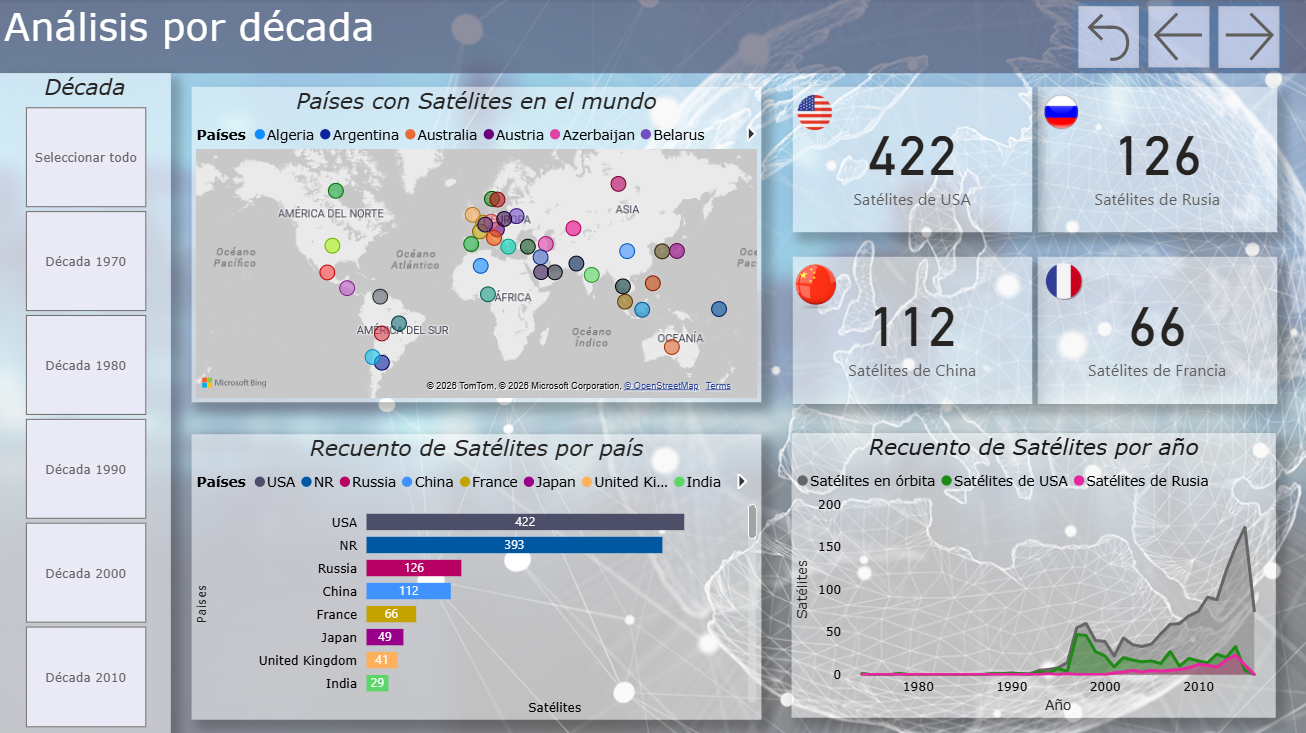

What the dashboard file says about the page in this screenshot:
{"tool":"powerbi","page":{"name":"Décadas","canvas":[1280,720],"ordinal":2},"visuals":[{"type":"textbox","box":[0,0,1280,73.9],"z":0},{"type":"actionButton","box":[1115.9,0,95.6,75.8],"z":1000},{"type":"actionButton","box":[1184.6,0,95.6,76.4],"z":2000},{"type":"slicer","title":"Década","fields":{"Values":["Calendario.Décadas"]},"box":[0,73.9,168,646.7],"z":3000},{"type":"barChart","title":"Recuento de Satélites por país ","fields":{"Category":["Países.Nombre"],"Y":["CountNonNull(Satélites.PaísID)"],"Series":["Países.Nombre"]},"box":[188.1,426.7,557.7,278.8],"z":4000},{"type":"card","fields":{"Values":["Medidas.Satelites en Rusia"]},"box":[1016.7,87.3,234.2,142.5],"z":5000},{"type":"card","title":"Satélites en Estados Unidos","fields":{"Values":["Medidas.Satelites_USA"]},"box":[776.7,87.3,234.2,142.5],"z":6000},{"type":"card","fields":{"Values":["Medidas.Satellites en China"]},"box":[776.7,253.1,234.2,144],"z":7000},{"type":"map","title":"Países con Satélites en el mundo","fields":{"Category":["Países.Nombre"],"Series":["Países.Nombre"]},"box":[188.1,87.3,557.7,309.1],"z":8000},{"type":"card","fields":{"Values":["Medidas.Satélites en Francia"]},"box":[1016.7,253.1,234.2,144],"z":9000},{"type":"image","box":[776.1,87.3,43.7,50.4],"z":11000},{"type":"image","box":[1009.6,77.3,58.8,68.9],"z":12000},{"type":"image","box":[764.3,241.9,70.6,80],"z":13000},{"type":"image","box":[1016.3,253.6,52.1,48.7],"z":14000},{"type":"actionButton","box":[1047.9,0,75.2,76.4],"z":15000},{"type":"areaChart","title":"Recuento de Satélites por año","fields":{"Y":["Medidas.Cantidad de Satélites","Medidas.Satélites en USA","Medidas.Satélites en Rusia"],"Category":["Calendario.Fecha de Lanzamiento.Variación.Jerarquía de fechas.Año","Calendario.Fecha de Lanzamiento.Variación.Jerarquía de fechas.Trimestre","Calendario.Fecha de Lanzamiento.Variación.Jerarquía de fechas.Mes","Calendario.Fecha de Lanzamiento.Variación.Jerarquía de fechas.Día"]},"box":[775.4,426.1,473.9,278.3],"z":16000}]}

Visuals, with their boxes in screenshot pixels (x1, y1, x2, y2), scaled from the page's 1280x720 canvas onto the 1306x733 screenshot:
textbox: [0,0,1305,75]
actionButton: [1139,0,1236,77]
actionButton: [1209,0,1305,78]
"Década" slicer: [0,75,171,732]
"Recuento de Satélites por país " barChart: [192,434,761,718]
card - Medidas.Satelites en Rusia: [1037,89,1276,234]
"Satélites en Estados Unidos" card: [792,89,1031,234]
card - Medidas.Satellites en China: [792,258,1031,404]
"Países con Satélites en el mundo" map: [192,89,761,404]
card - Medidas.Satélites en Francia: [1037,258,1276,404]
image: [792,89,836,140]
image: [1030,79,1090,149]
image: [780,246,852,328]
image: [1037,258,1090,308]
actionButton: [1069,0,1146,78]
"Recuento de Satélites por año" areaChart: [791,434,1275,717]
